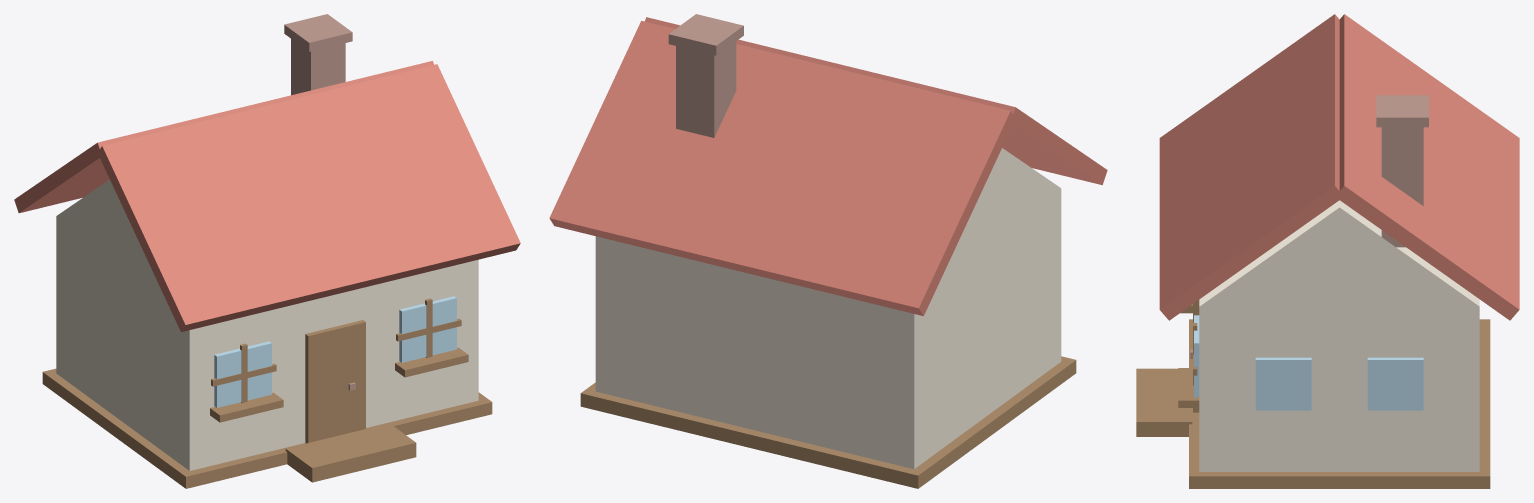
The model's file is Cottage.fbx.
3 renders of one model, left to right at view 1: azimuth 30°, elevation 25°; view 2: azimuth 150°, elevation 25°; view 3: azimuth 270°, elevation 25°, orthographic. The views are drawn at different scales.
Parts seen in each view (by area): view 1: Cottage; view 2: Cottage; view 3: Cottage.
Part boxes in pixels (x1,y1,x2,y2): Cottage: [14, 14, 520, 488]; Cottage: [549, 14, 1107, 488]; Cottage: [1136, 14, 1519, 488].
Size of the model in its own units: 5.8 by 5.44 by 5.47.
